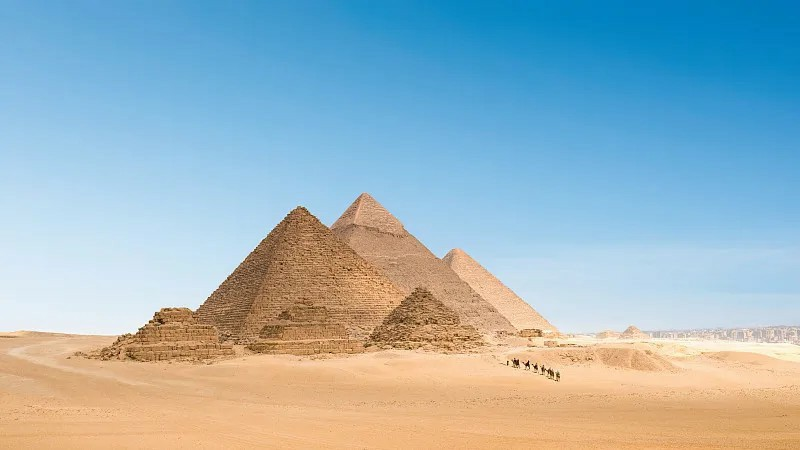Pyramid: (198, 207, 407, 347), (330, 191, 522, 338), (442, 249, 564, 336), (367, 289, 487, 351), (111, 307, 236, 364), (251, 297, 366, 354)
